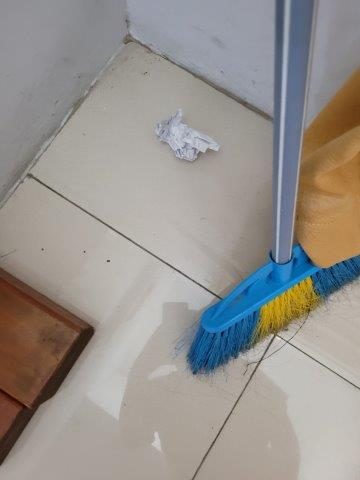kertas: (151, 111, 221, 165)
